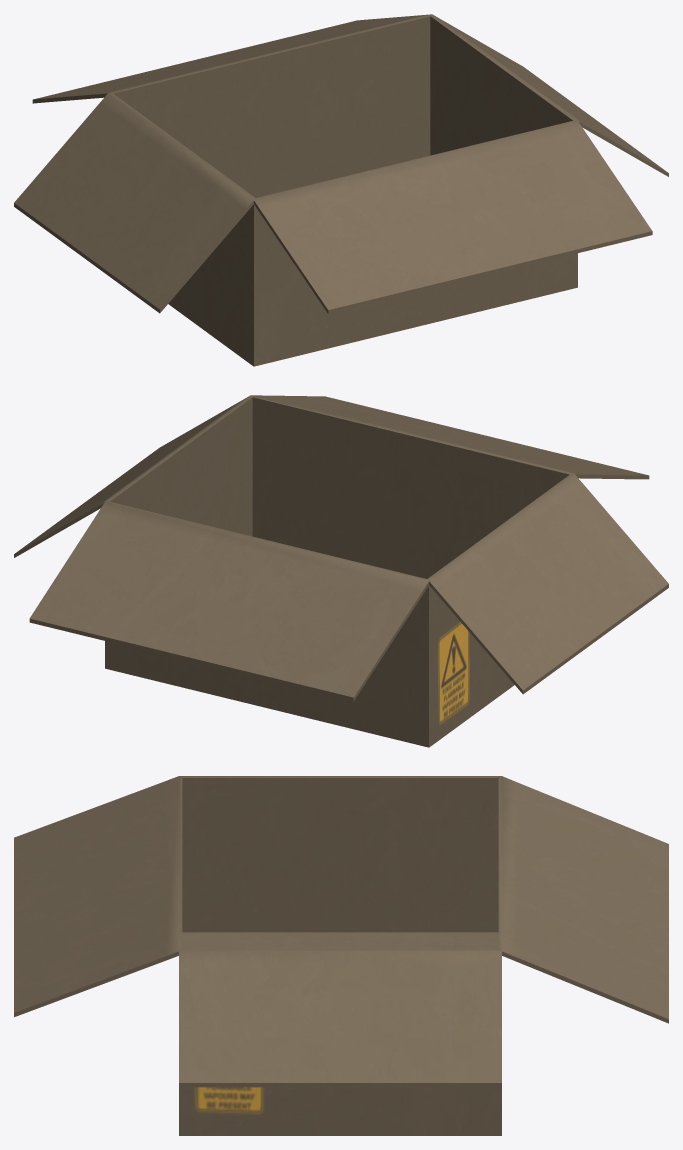
File: carton_medium.fbx
3 views of the same model, one above another, from view 1: azimuth 30°, elevation 25°; view 2: azimuth 150°, elevation 25°; view 3: azimuth 270°, elevation 25° (orthographic). The views are drawn at different scales.
Parts seen in each view (by area): view 1: Carton_medium; view 2: Carton_medium; view 3: Carton_medium.
Boxes of the visible parts, x1,y1,x2,y2 form: Carton_medium: [14, 14, 668, 366]; Carton_medium: [14, 395, 668, 747]; Carton_medium: [14, 776, 668, 1135].
Size of the model in its own units: 0.9779 by 0.3057 by 0.9835.
Materials: 1 (1 with a texture image).
